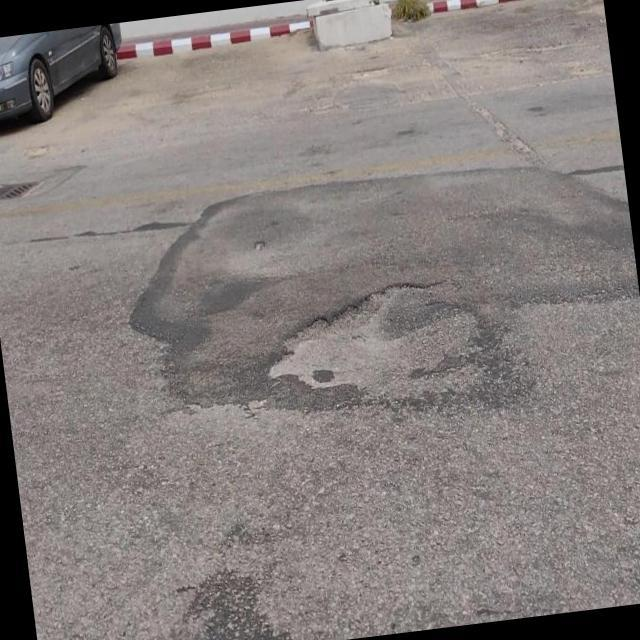Pothole: (263, 280, 481, 397)
